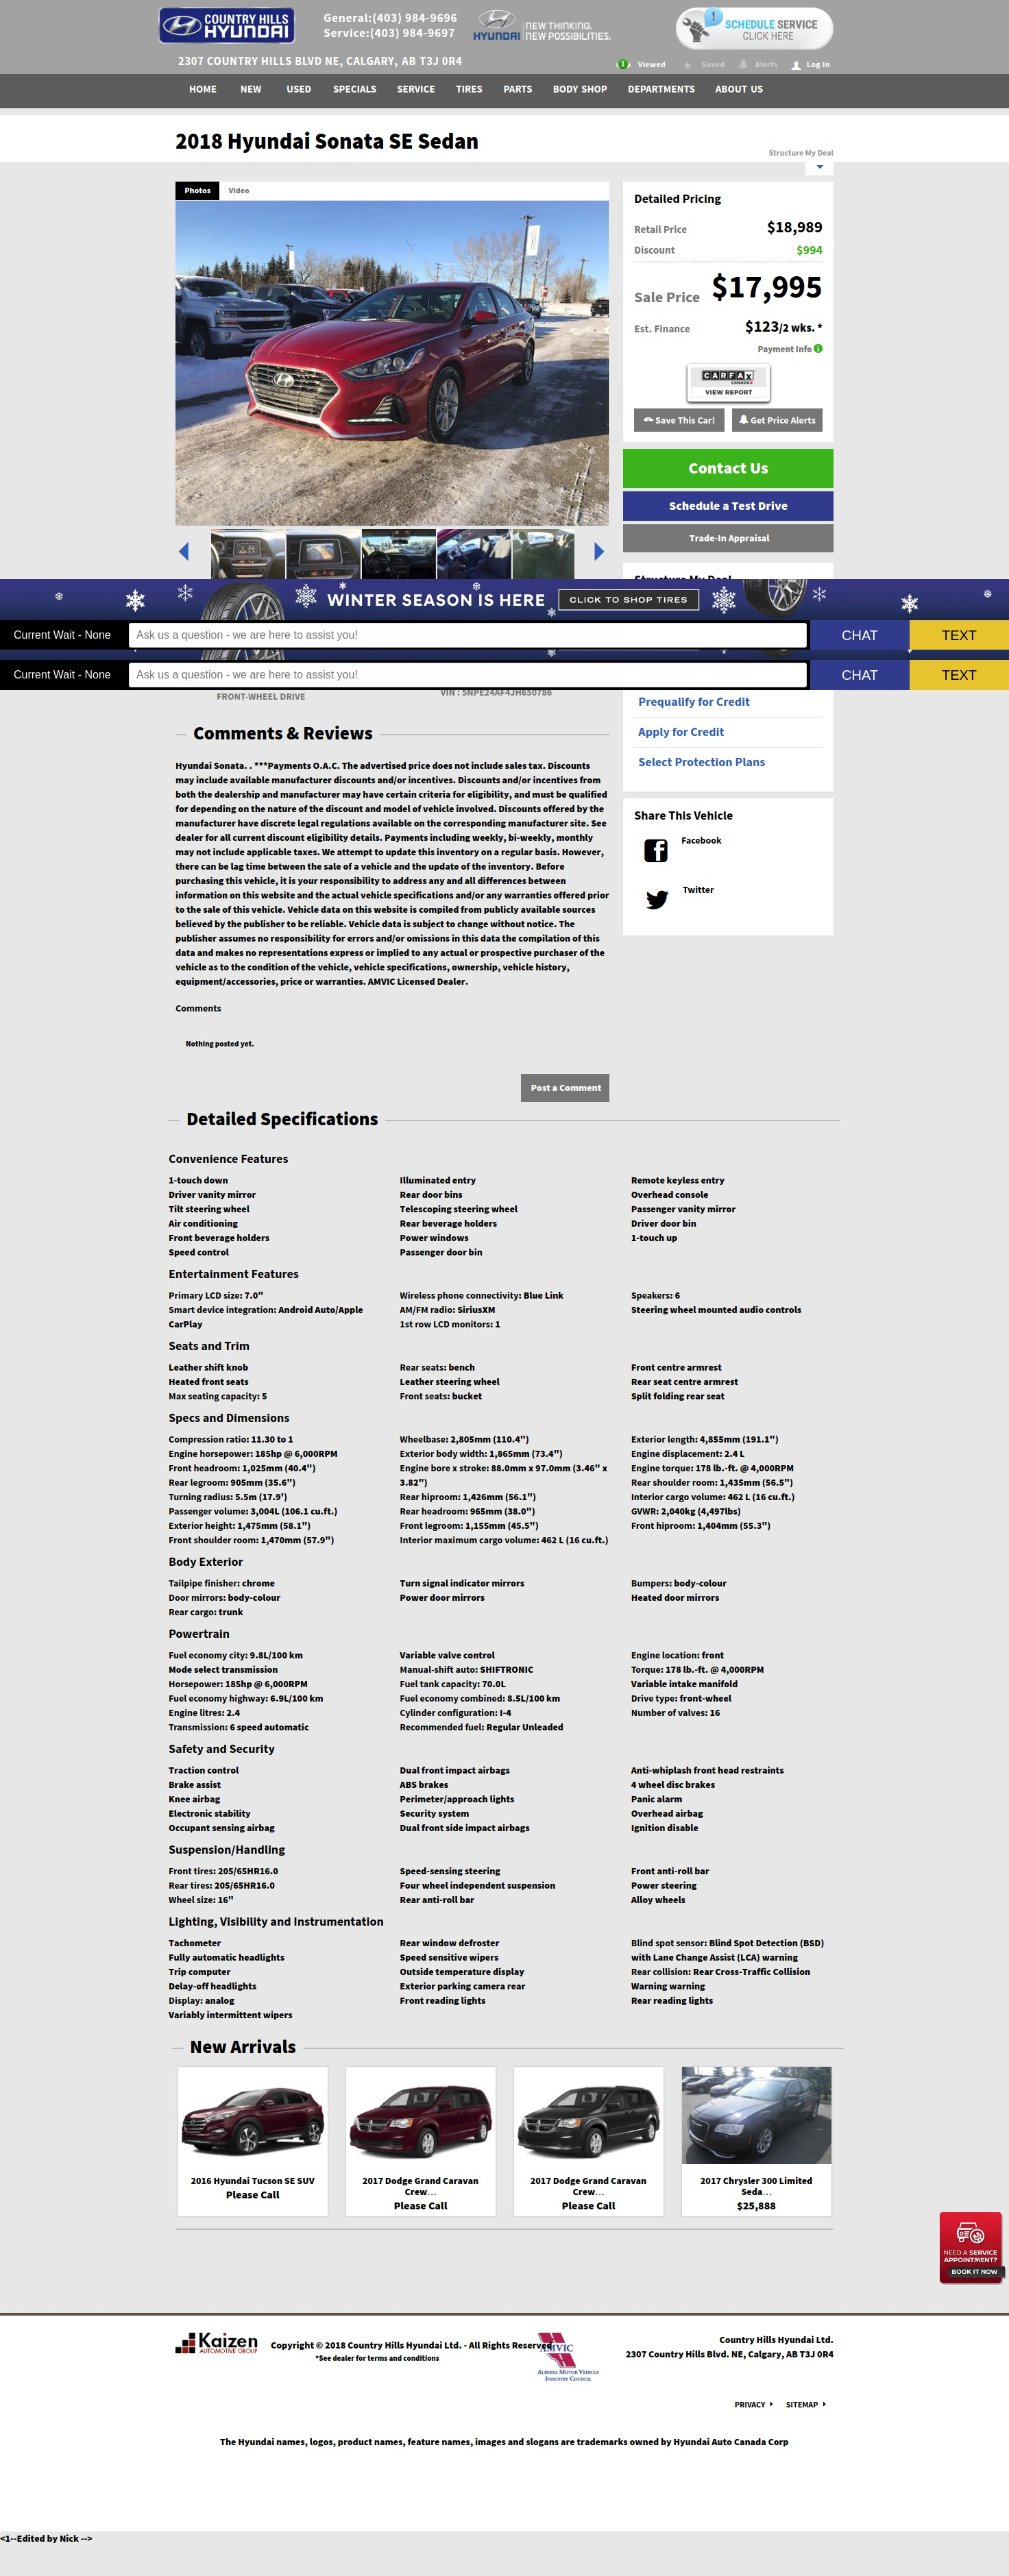car: (593, 542, 605, 562)
